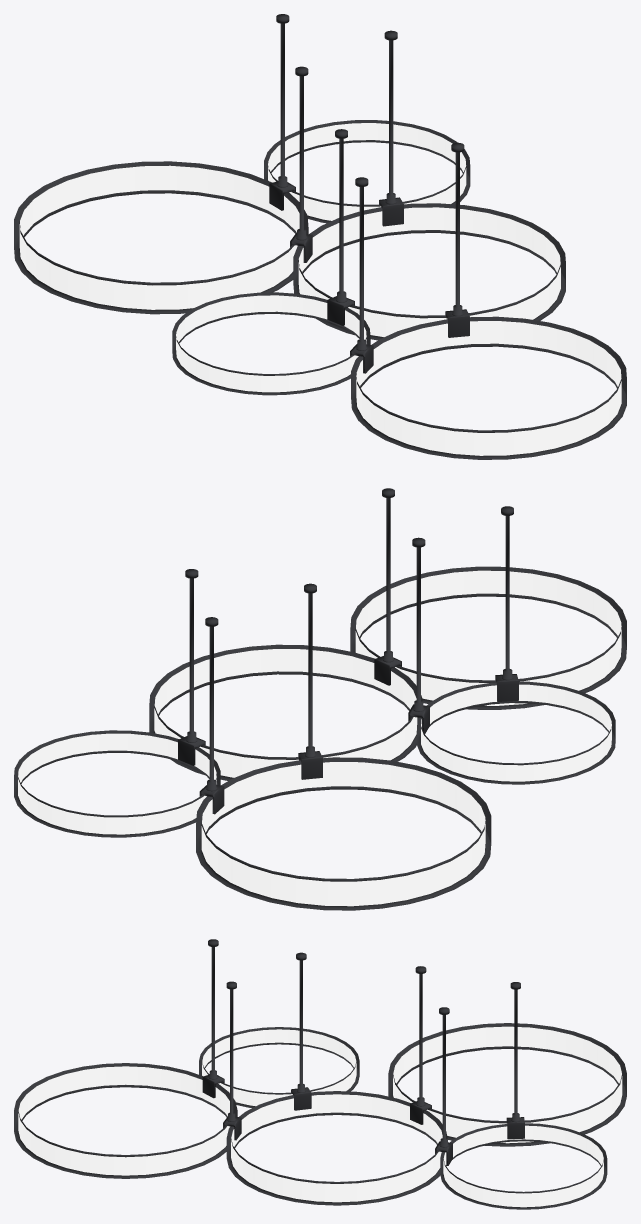
File: chendalier.glb
The picture shows the model from 3 angles, top to bottom: view 1: azimuth 30°, elevation 25°; view 2: azimuth 150°, elevation 25°; view 3: azimuth 270°, elevation 25°; orthographic projection. The views are drawn at different scales.
Visible parts, largest first — view 1: Circle.1, Circle.5, Circle.3, Circle.4, Circle.2, Cylinder.2, Cylinder.1, Cylinder.3, Cylinder.5, Cylinder.6, Cylinder.4; view 2: Circle.1, Circle.5, Circle.3, Circle.2, Circle.4, Cylinder.1, Cylinder.3, Cylinder.4, Cylinder.5, Cylinder.2, Cylinder.6; view 3: Circle.5, Circle.3, Circle.1, Circle.2, Circle.4, Cylinder.2, Cylinder.3, Cylinder.5, Cylinder.6, Cylinder.1, Cylinder.4.
Boxes of the visible parts, x1,y1,x2,y2 form: Circle.1: [14, 161, 308, 314]; Circle.5: [351, 316, 626, 459]; Circle.3: [293, 203, 565, 340]; Circle.4: [172, 292, 370, 395]; Circle.2: [264, 120, 470, 223]; Cylinder.2: [295, 66, 308, 240]; Cylinder.1: [276, 14, 289, 187]; Cylinder.3: [384, 30, 397, 204]; Cylinder.5: [355, 177, 368, 350]; Cylinder.6: [451, 142, 464, 316]; Cylinder.4: [335, 129, 347, 302]; Circle.1: [196, 757, 491, 910]; Circle.5: [350, 566, 626, 709]; Circle.3: [149, 644, 422, 780]; Circle.2: [14, 730, 220, 837]; Circle.4: [417, 681, 615, 784]; Cylinder.1: [205, 617, 218, 791]; Cylinder.3: [185, 569, 198, 742]; Cylinder.4: [412, 537, 425, 711]; Cylinder.5: [501, 506, 513, 680]; Cylinder.2: [304, 583, 316, 757]; Cylinder.6: [382, 488, 394, 662]; Circle.5: [14, 1063, 237, 1178]; Circle.3: [226, 1091, 447, 1205]; Circle.1: [388, 1023, 626, 1146]; Circle.2: [440, 1123, 607, 1209]; Circle.4: [199, 1027, 359, 1107]; Cylinder.2: [415, 966, 426, 1106]; Cylinder.3: [439, 1007, 449, 1147]; Cylinder.5: [208, 939, 218, 1079]; Cylinder.6: [226, 981, 236, 1121]; Cylinder.1: [510, 982, 520, 1122]; Cylinder.4: [296, 952, 306, 1092].
Bounding box in the file's own units: 10.17 × 4.53 × 15.41.
2 materials, 1 textured.
